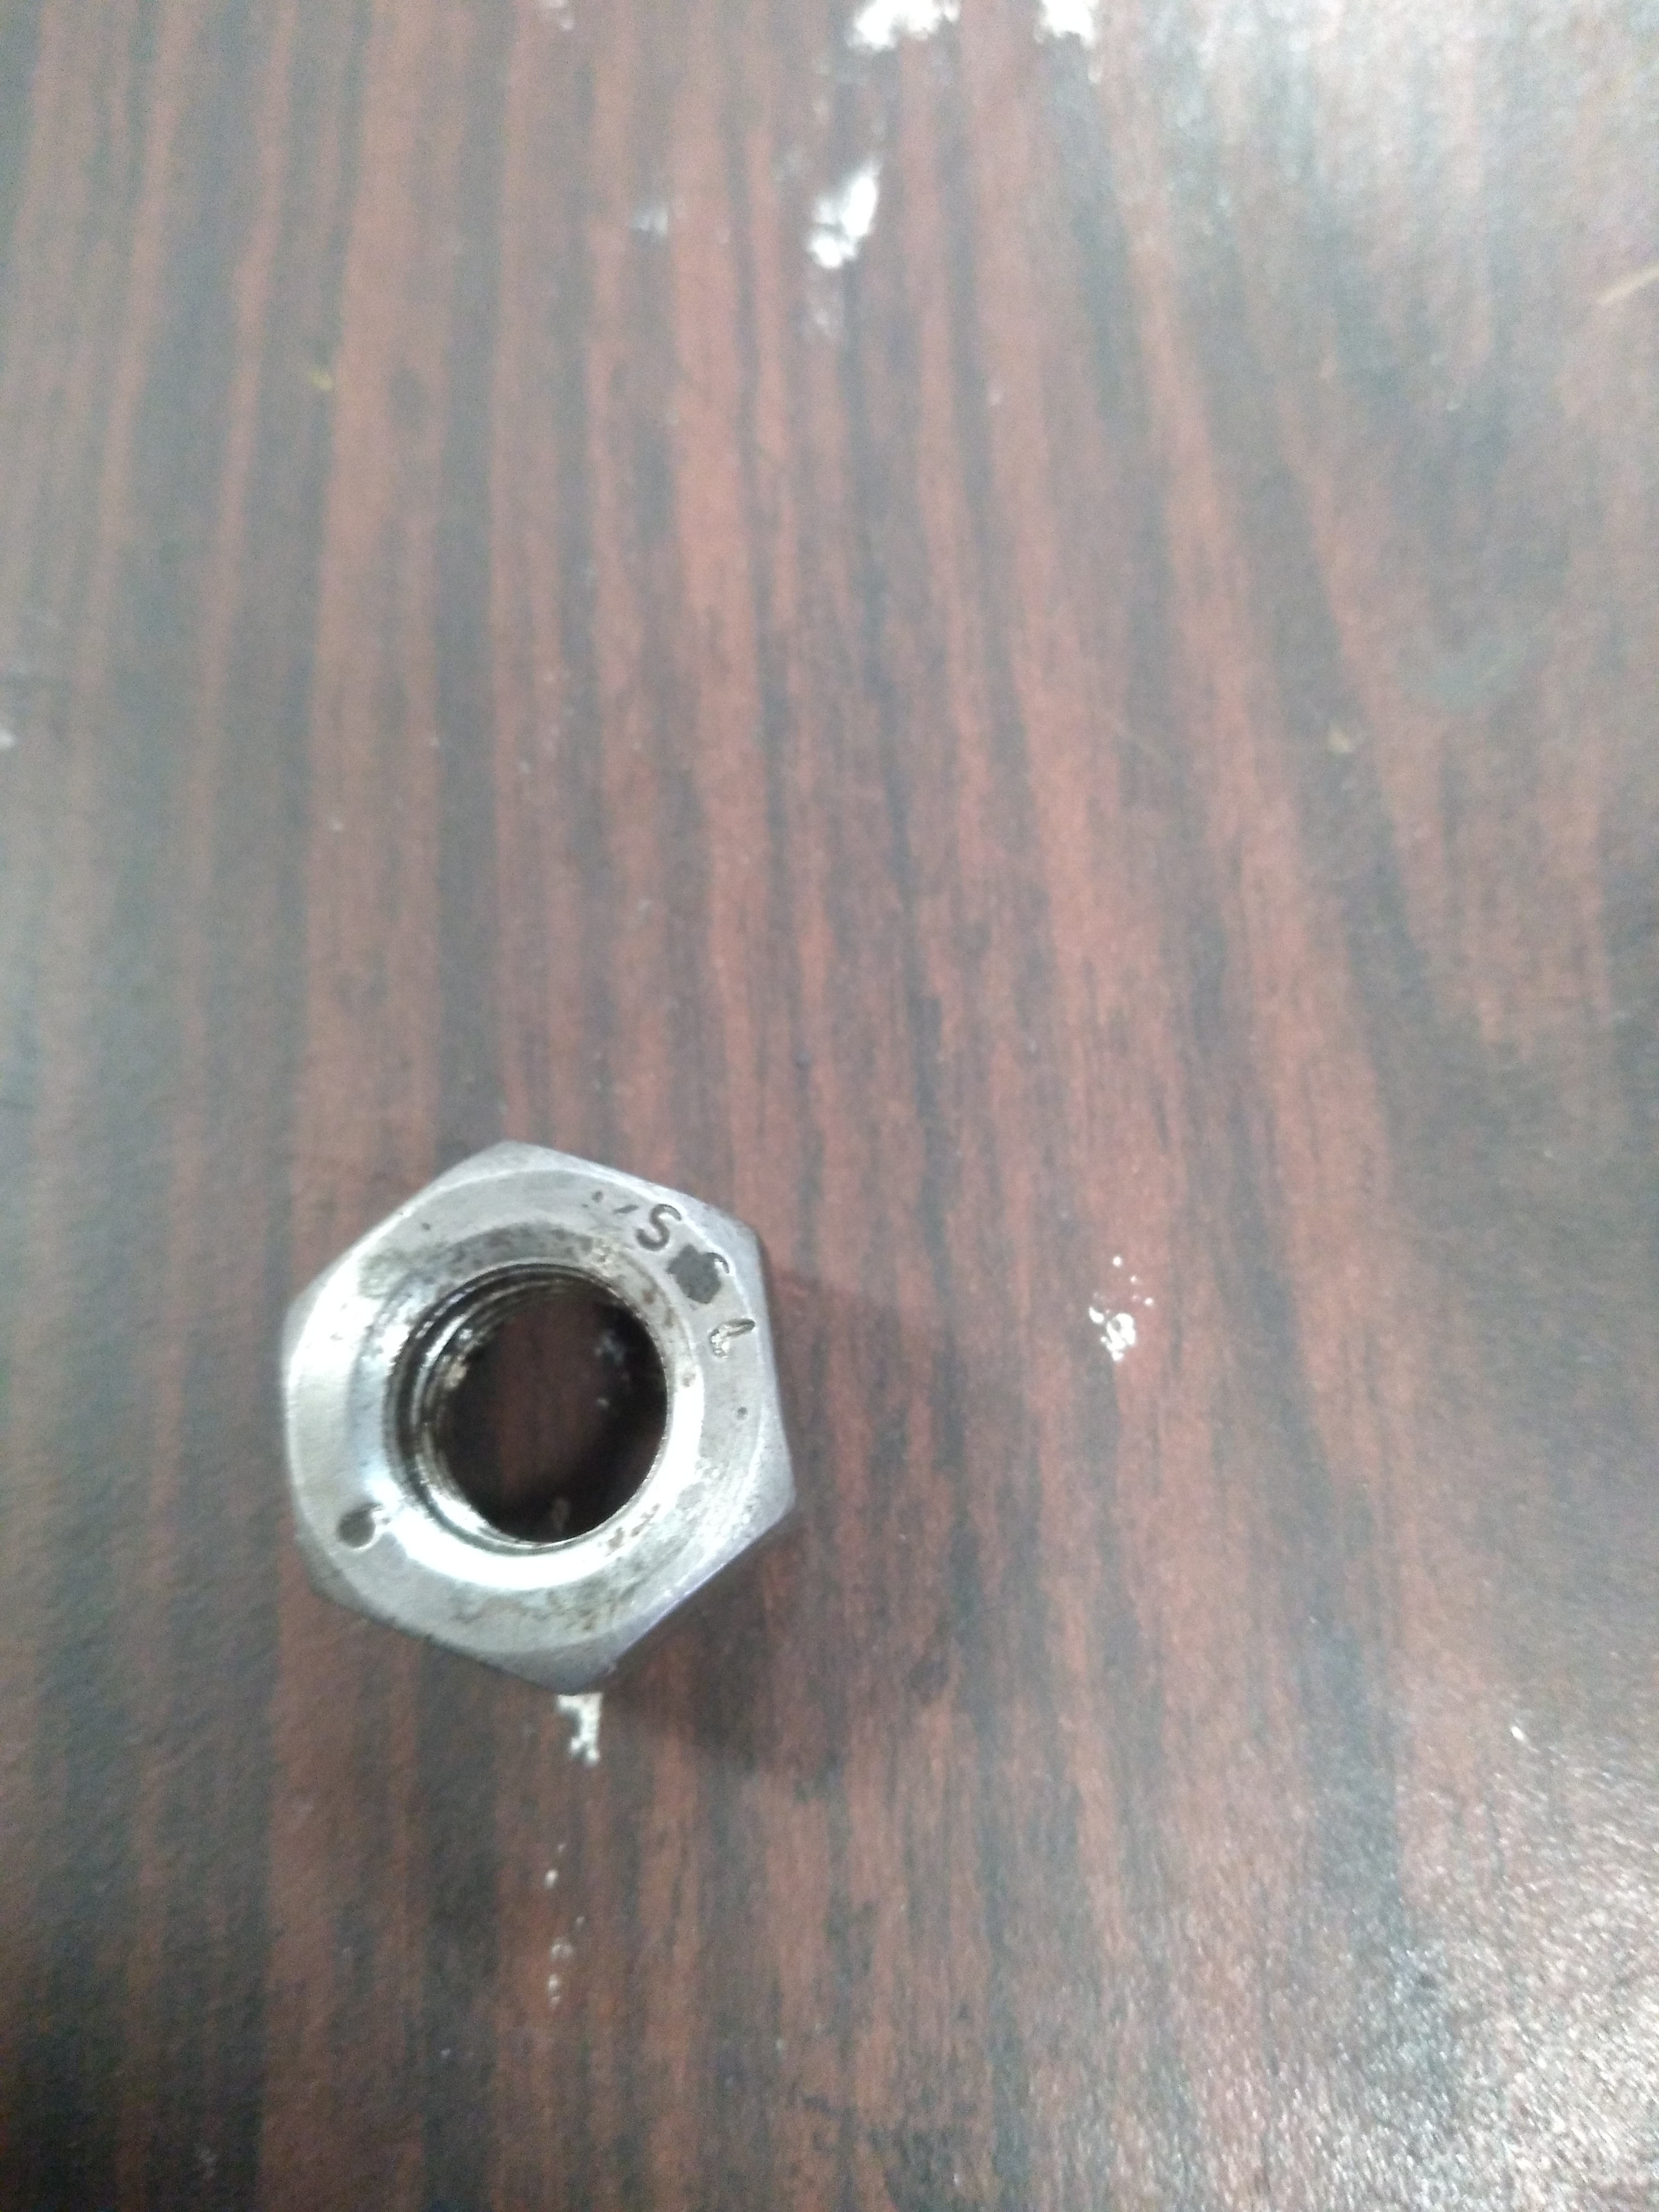Thread: (301, 1233, 741, 1590)
